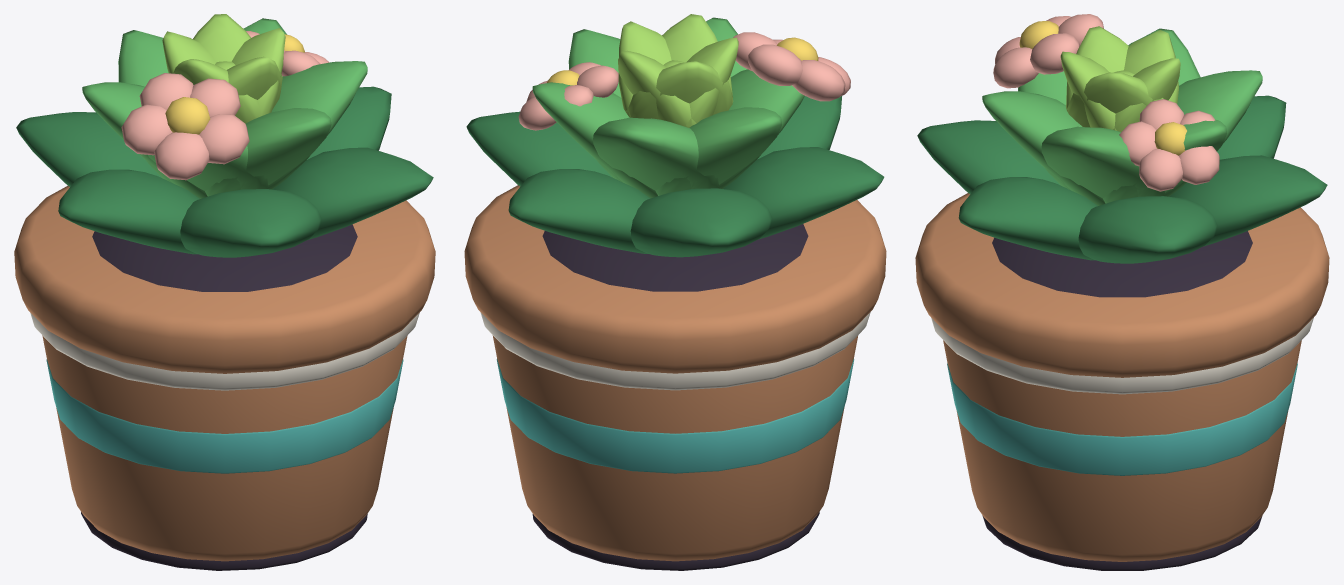
File: plant.glb
3 renders of one model, left to right at view 1: azimuth 30°, elevation 25°; view 2: azimuth 150°, elevation 25°; view 3: azimuth 270°, elevation 25°, orthographic.
Parts seen in each view (by area): view 1: ShopPlant_Pot, ShopPlant_LeavesDeep, ShopPlant_LeavesMid, ShopPlant_PotBand, ShopPlant_BaseAndSoil, ShopPlant_Blossoms, ShopPlant_LeavesCrown, ShopPlant_PotRimTrim, ShopPlant_BlossomCenters; view 2: ShopPlant_Pot, ShopPlant_LeavesDeep, ShopPlant_LeavesMid, ShopPlant_PotBand, ShopPlant_BaseAndSoil, ShopPlant_LeavesCrown, ShopPlant_Blossoms, ShopPlant_PotRimTrim, ShopPlant_BlossomCenters; view 3: ShopPlant_Pot, ShopPlant_LeavesDeep, ShopPlant_LeavesMid, ShopPlant_PotBand, ShopPlant_BaseAndSoil, ShopPlant_LeavesCrown, ShopPlant_Blossoms, ShopPlant_PotRimTrim, ShopPlant_BlossomCenters.
Boxes of the visible parts, x1,y1,x2,y2 form: ShopPlant_Pot: [14, 186, 435, 561]; ShopPlant_LeavesDeep: [16, 86, 433, 257]; ShopPlant_LeavesMid: [82, 18, 367, 198]; ShopPlant_PotBand: [46, 359, 403, 473]; ShopPlant_BaseAndSoil: [81, 224, 367, 570]; ShopPlant_Blossoms: [121, 31, 329, 180]; ShopPlant_LeavesCrown: [162, 14, 285, 123]; ShopPlant_PotRimTrim: [30, 312, 419, 390]; ShopPlant_BlossomCenters: [165, 34, 304, 134]; ShopPlant_Pot: [464, 185, 886, 561]; ShopPlant_LeavesDeep: [466, 96, 884, 257]; ShopPlant_LeavesMid: [532, 17, 804, 198]; ShopPlant_PotBand: [496, 359, 854, 473]; ShopPlant_BaseAndSoil: [532, 224, 819, 570]; ShopPlant_LeavesCrown: [618, 14, 738, 127]; ShopPlant_Blossoms: [518, 32, 850, 130]; ShopPlant_PotRimTrim: [480, 312, 870, 390]; ShopPlant_BlossomCenters: [547, 37, 818, 85]; ShopPlant_Pot: [915, 193, 1329, 561]; ShopPlant_LeavesDeep: [917, 95, 1327, 263]; ShopPlant_LeavesMid: [982, 28, 1262, 205]; ShopPlant_PotBand: [947, 363, 1297, 475]; ShopPlant_BaseAndSoil: [982, 231, 1262, 570]; ShopPlant_LeavesCrown: [1060, 26, 1180, 131]; ShopPlant_Blossoms: [993, 14, 1219, 191]; ShopPlant_PotRimTrim: [931, 317, 1313, 394]; ShopPlant_BlossomCenters: [1019, 21, 1186, 155].
Bounding box in the file's own units: 0.1537 × 0.187 × 0.1515.
